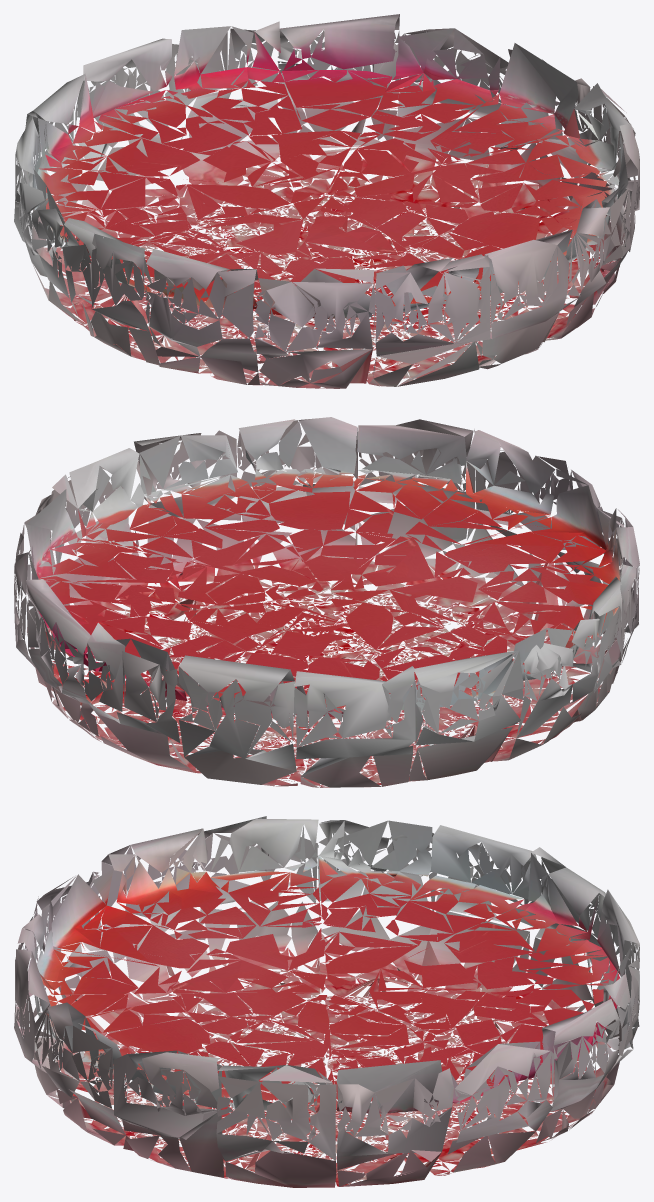
The model's file is placa.glb.
3 renders of one model, top to bottom at view 1: azimuth 30°, elevation 25°; view 2: azimuth 150°, elevation 25°; view 3: azimuth 270°, elevation 25°, orthographic.
Parts seen in each view (by area): view 1: tripo_node_dd23d983-53e1-4a27-a76a-d4022720209d.002; view 2: tripo_node_dd23d983-53e1-4a27-a76a-d4022720209d.002; view 3: tripo_node_dd23d983-53e1-4a27-a76a-d4022720209d.002.
Boxes of the visible parts, x1=… form: tripo_node_dd23d983-53e1-4a27-a76a-d4022720209d.002: x1=14, y1=14, x2=639, y2=388; tripo_node_dd23d983-53e1-4a27-a76a-d4022720209d.002: x1=14, y1=417, x2=639, y2=787; tripo_node_dd23d983-53e1-4a27-a76a-d4022720209d.002: x1=14, y1=816, x2=639, y2=1187.
Bounding box in the file's own units: 1 × 0.2537 × 1.
Materials: 1 (1 with a texture image).
